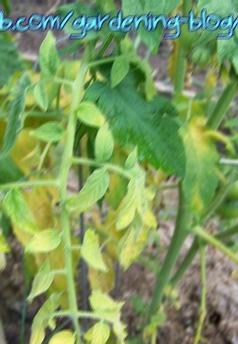Tomato leaf yellow virus: (170, 91, 221, 243), (68, 168, 120, 217), (5, 181, 46, 234), (90, 106, 120, 166), (23, 223, 63, 258)
